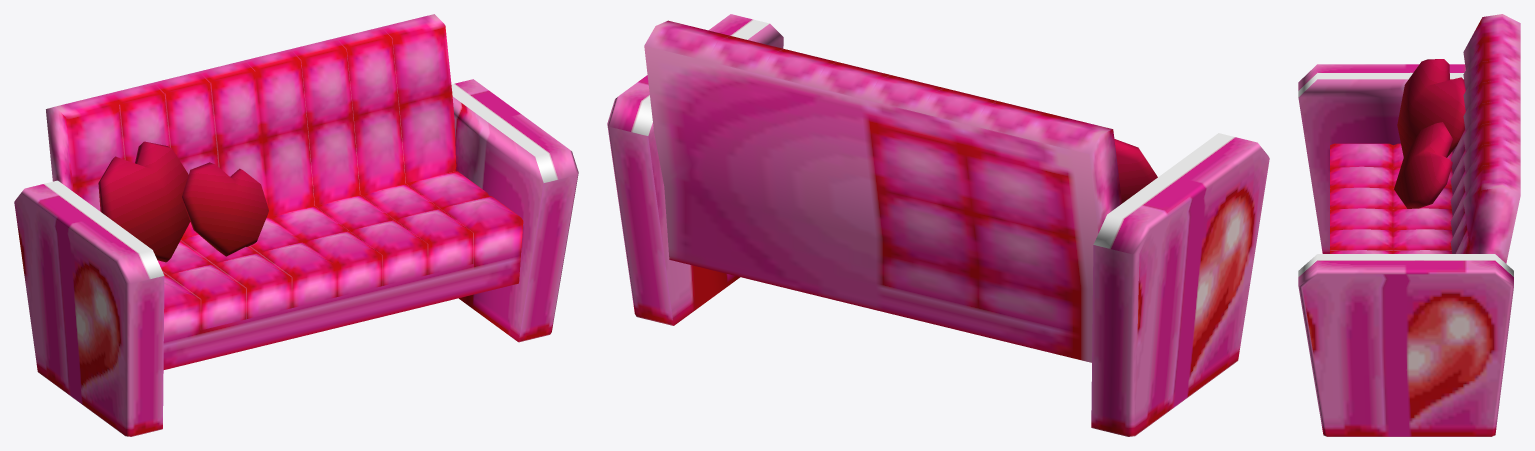
Rendered from rmk_lov_chairL.dae.
3 views of the same model, side by side, from view 1: azimuth 30°, elevation 25°; view 2: azimuth 150°, elevation 25°; view 3: azimuth 270°, elevation 25° (orthographic). The views are drawn at different scales.
Visible parts, largest first — view 1: rmk_lov_chairL; view 2: rmk_lov_chairL; view 3: rmk_lov_chairL.
Boxes of the visible parts, bbox=[...] form: rmk_lov_chairL: bbox=[14, 14, 578, 436]; rmk_lov_chairL: bbox=[607, 14, 1269, 436]; rmk_lov_chairL: bbox=[1298, 14, 1520, 436].
Bounding box in the file's own units: 62.08 × 33.22 × 27.98.
Materials: 2 (2 with a texture image).
